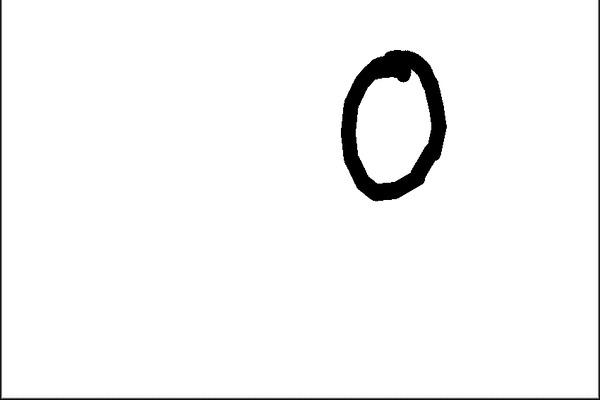O: (323, 42, 456, 204)
